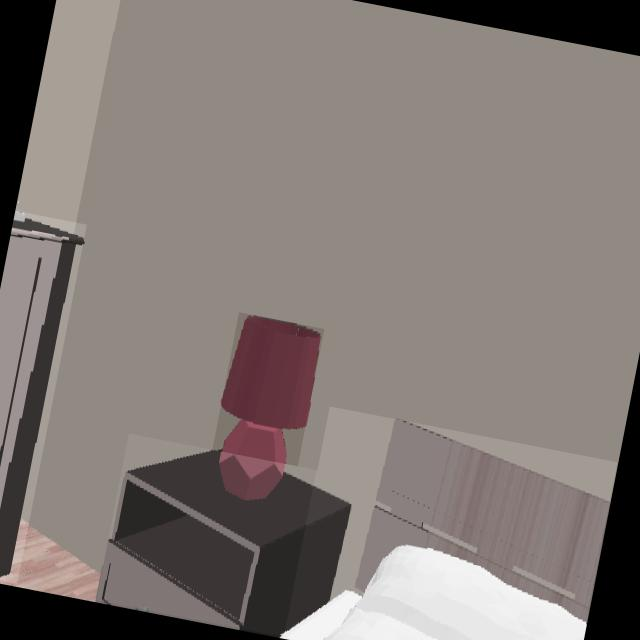bed: (286, 421, 610, 640)
cabinet: (0, 211, 84, 577)
lamp: (220, 317, 321, 501)
nighttable: (97, 451, 347, 635)
